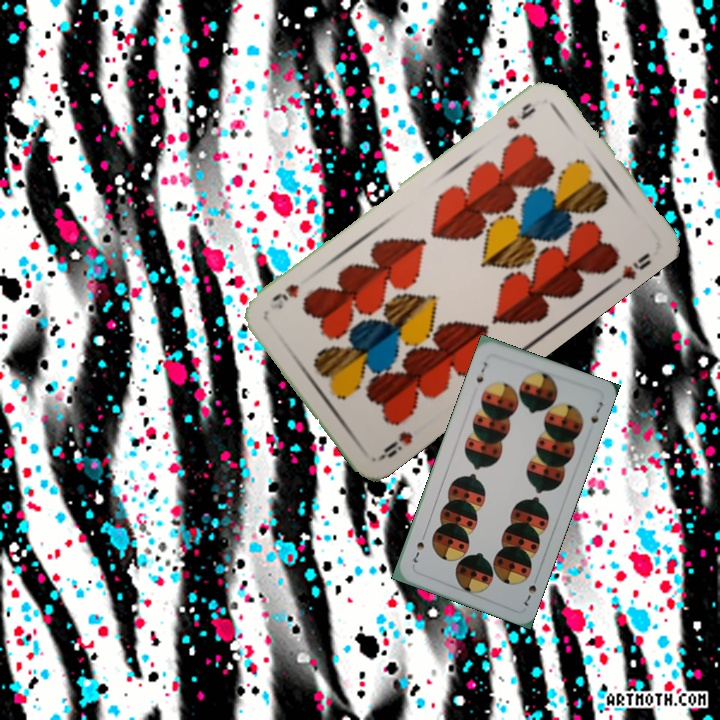H9: (375, 427, 416, 462), (502, 98, 538, 132)
S7: (520, 571, 541, 609), (472, 358, 490, 386)
